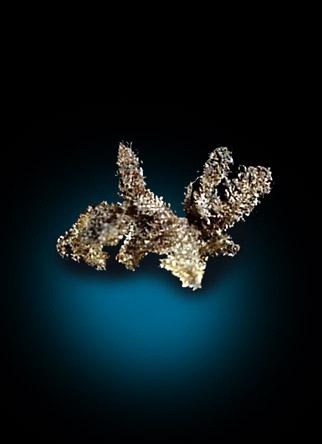silver: (57, 143, 271, 290)
